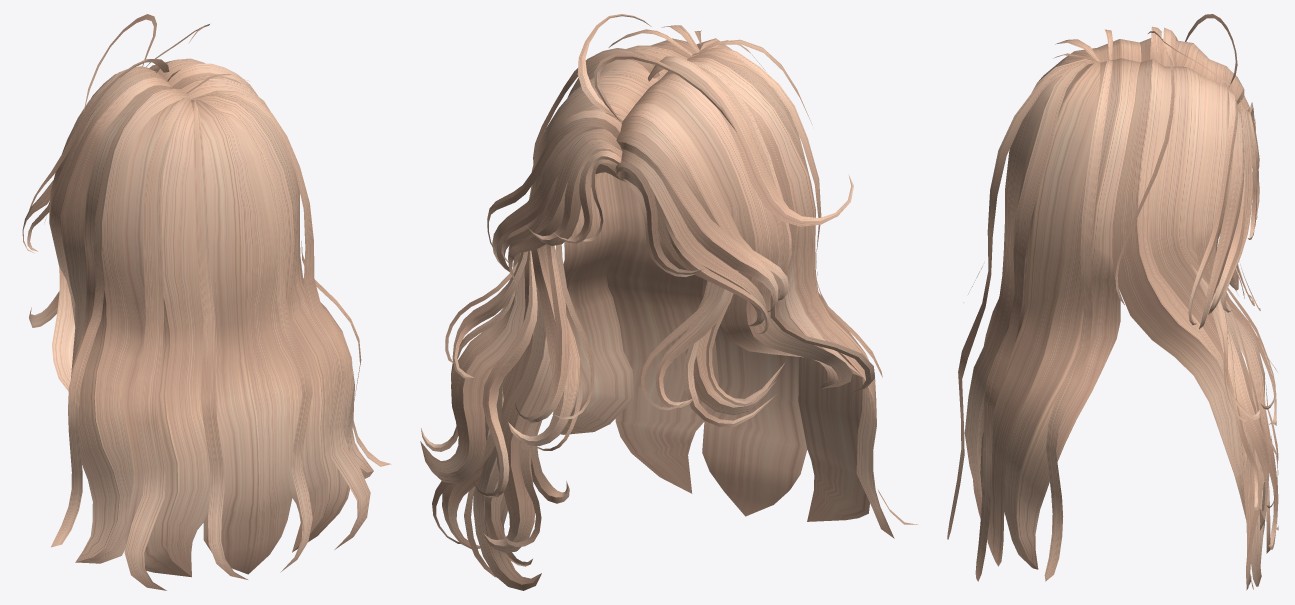
3 renders of one model, left to right at view 1: azimuth 30°, elevation 25°; view 2: azimuth 150°, elevation 25°; view 3: azimuth 270°, elevation 25°, orthographic. The views are drawn at different scales.
Parts seen in each view (by area): view 1: geometry_0; view 2: geometry_0; view 3: geometry_0.
Boxes of the visible parts, left/top/right/bottom form: geometry_0: left=22, top=14, right=391, bottom=590; geometry_0: left=420, top=14, right=917, bottom=590; geometry_0: left=947, top=14, right=1278, bottom=590.
Size of the model in its own units: 2.46 by 3.34 by 1.9.
1 material, 1 textured.
